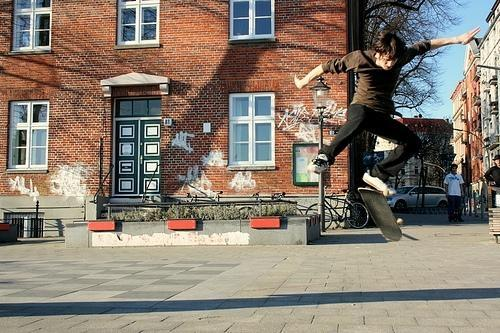bicycle: (306, 184, 369, 229)
car: (387, 184, 448, 208)
